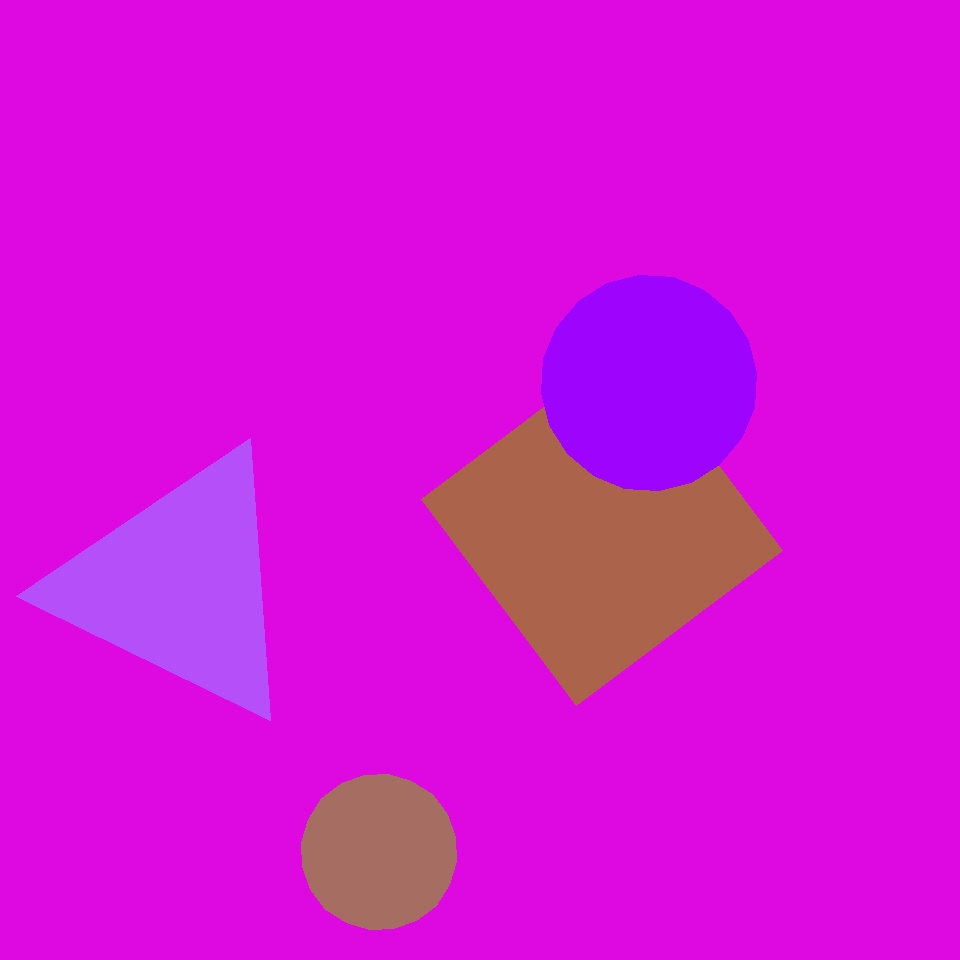circle: (52, 444, 306, 726), (553, 98, 783, 298), (432, 16, 536, 107)
square: (422, 344, 782, 706)
triangle: (636, 636, 907, 907), (542, 276, 756, 491), (301, 774, 456, 929)
